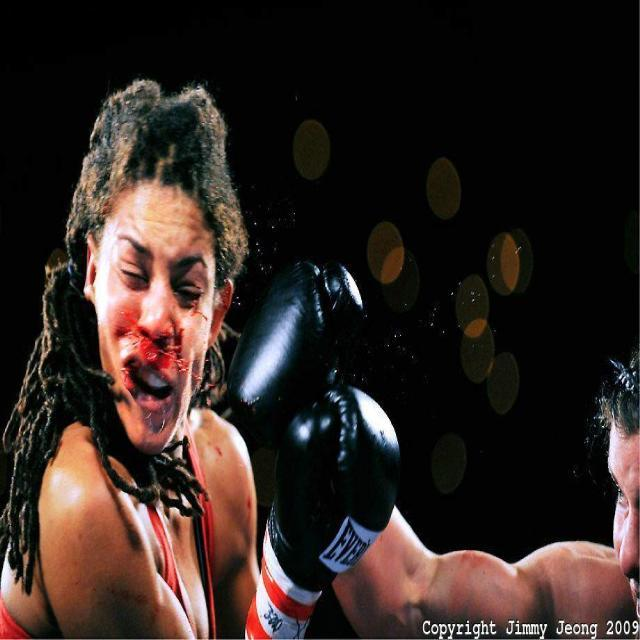flood: (102, 284, 210, 414)
